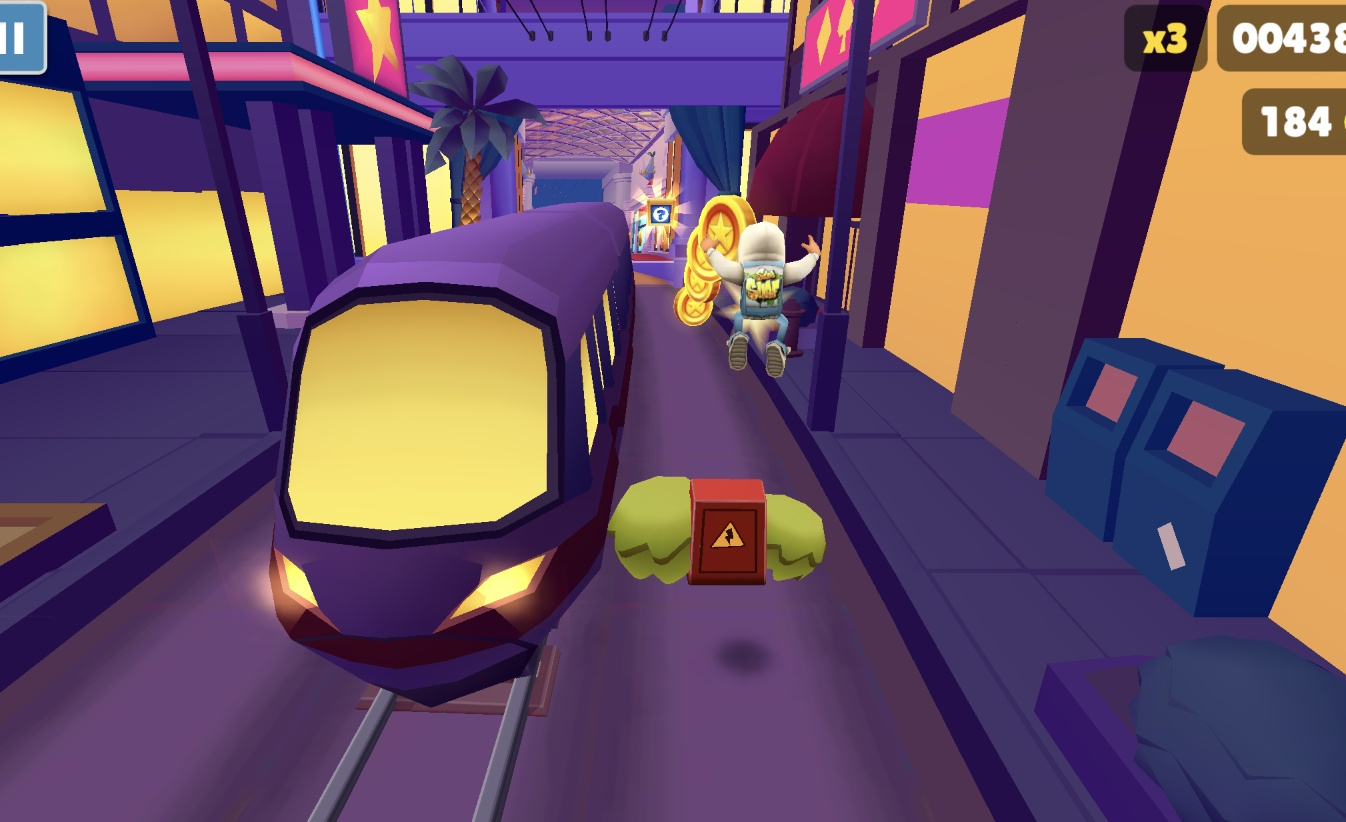bush: (608, 475, 827, 586)
small_obstacle: (687, 477, 768, 586)
train: (260, 201, 640, 713)
